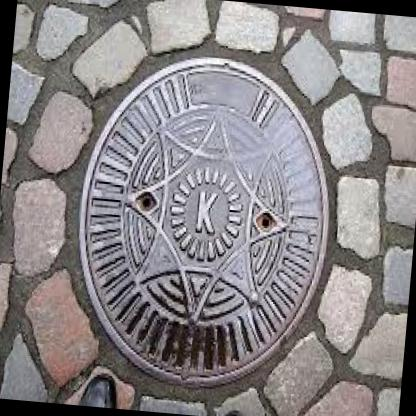manholes: (49, 31, 368, 411)
